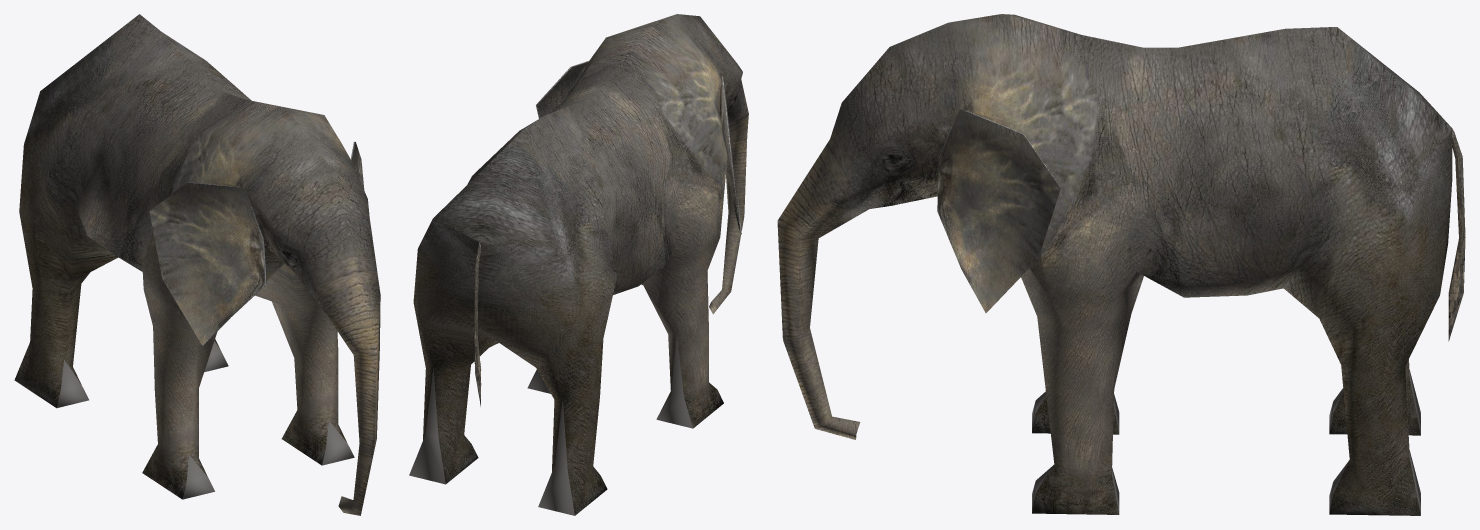
The model's file is Elephant.fbx.
3 views of the same model, side by side, from view 1: azimuth 30°, elevation 25°; view 2: azimuth 150°, elevation 25°; view 3: azimuth 270°, elevation 25° (orthographic). The views are drawn at different scales.
Visible parts, largest first — view 1: Group_1_1; view 2: Group_1_1; view 3: Group_1_1.
Part boxes in pixels (bbox=[...]): Group_1_1: bbox=[14, 14, 380, 515]; Group_1_1: bbox=[409, 14, 748, 515]; Group_1_1: bbox=[777, 14, 1465, 515].
Size of the model in its own units: 0.5747 by 0.9883 by 1.37.
